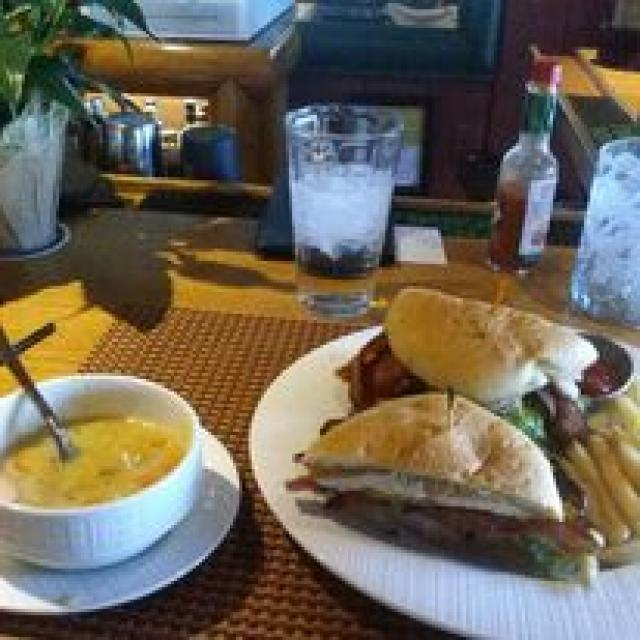Sandwich: (298, 289, 581, 541)
